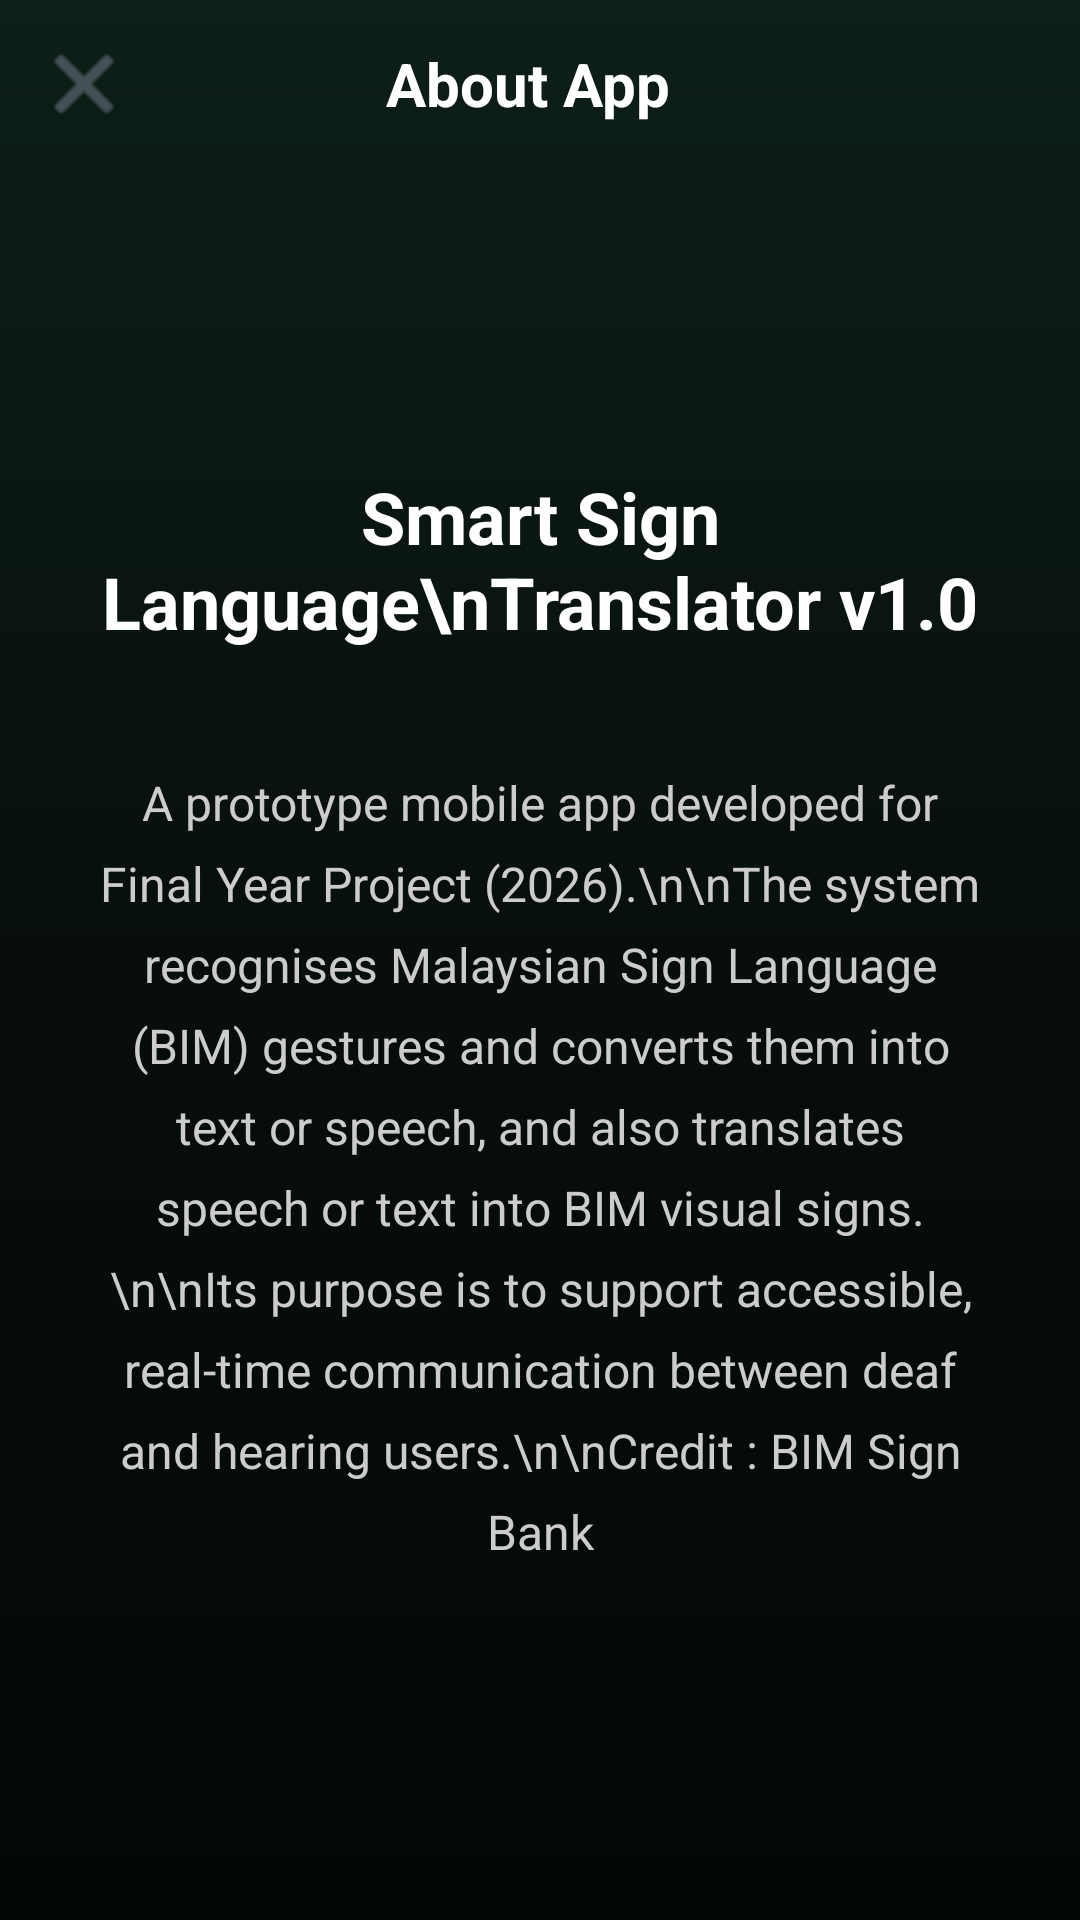

Screen size 1080px×1920px. Icon name, then its center in pixels as [x,y]:
close clear cancel: [84,84]
